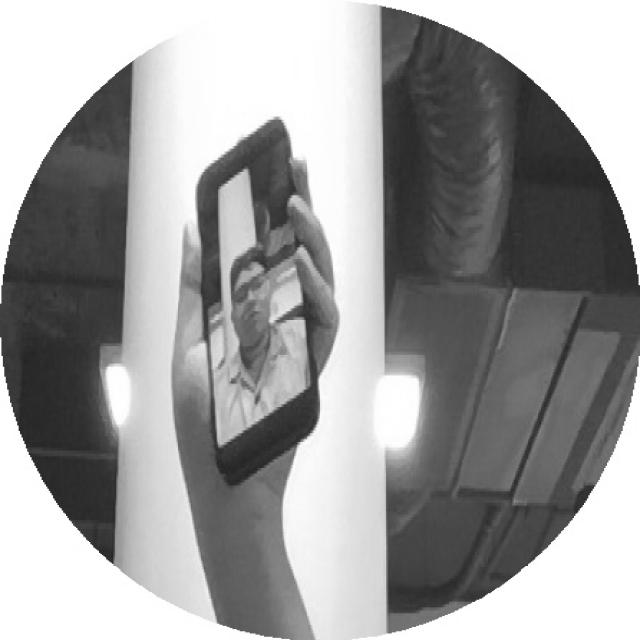fake: (166, 103, 358, 503), (199, 240, 293, 376)
